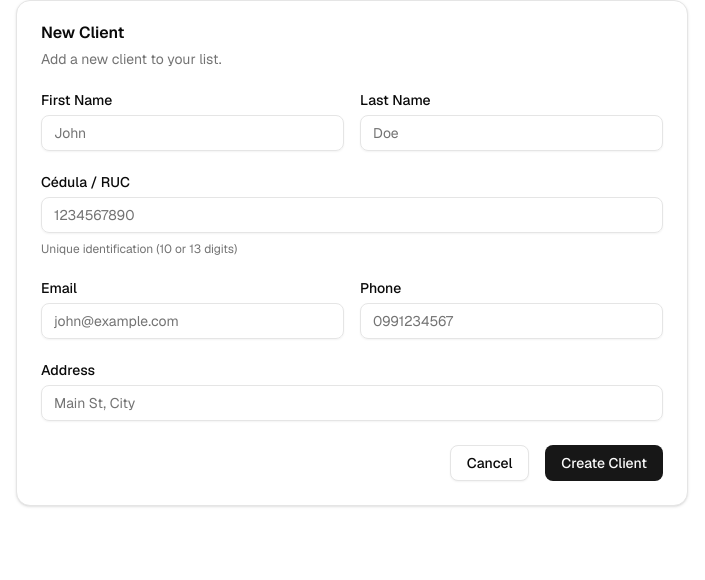
Test: ClientForm › shows validation errors for required fields
The image size is (705, 580).
# Try to submit without filling anything
Click the button "Create Client". click: coordinates (604, 463)
box: [545, 445, 663, 481]
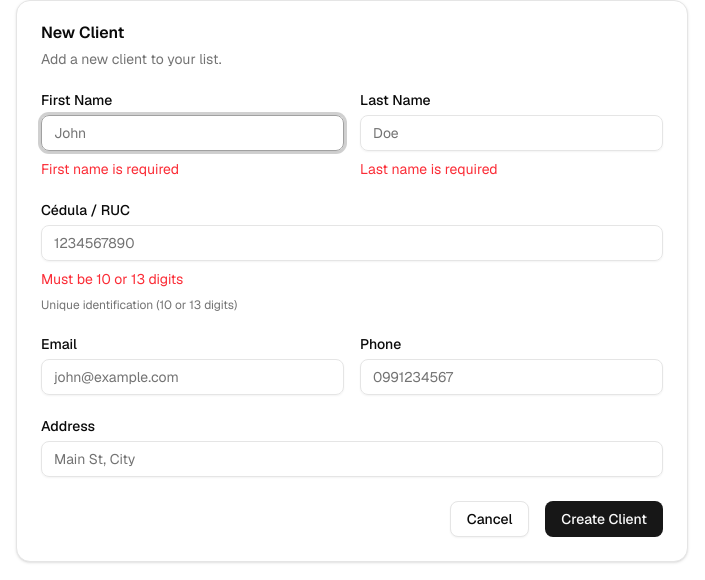
Expected: the text "First name is required" is shown, [41, 160, 179, 178]
Expected: the text "Last name is required" is shown, [360, 160, 498, 178]
